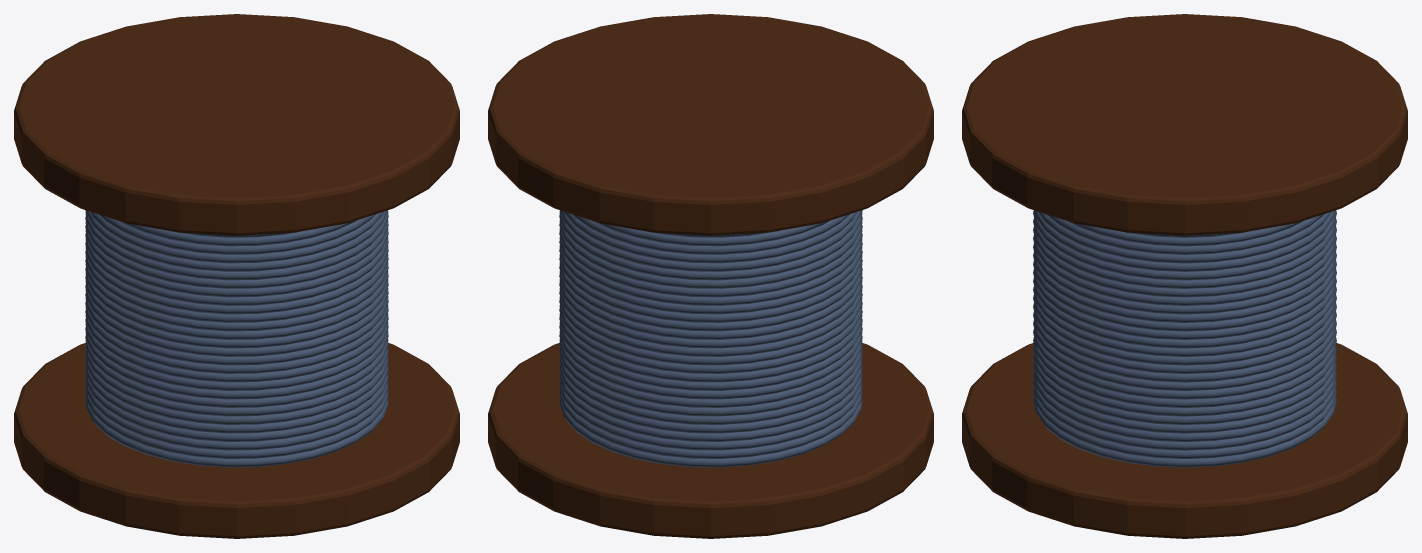
Rendered from prop_cotton_reel.glb.
3 renders of one model, left to right at view 1: azimuth 30°, elevation 25°; view 2: azimuth 150°, elevation 25°; view 3: azimuth 270°, elevation 25°, orthographic.
Parts seen in each view (by area): view 1: cotton_reel; view 2: cotton_reel; view 3: cotton_reel.
Part boxes in pixels (bbox=[...]): cotton_reel: bbox=[14, 14, 459, 538]; cotton_reel: bbox=[488, 14, 933, 538]; cotton_reel: bbox=[962, 14, 1407, 538].
Bounding box in the file's own units: 0.38 × 0.32 × 0.38.
2 materials, 1 textured.
